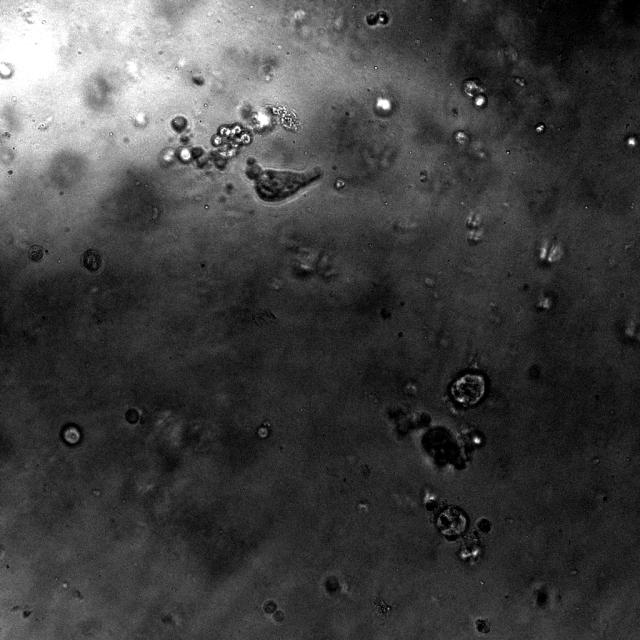organoid: (385, 403, 485, 470), (422, 487, 492, 563), (161, 115, 252, 170), (245, 157, 322, 204), (238, 101, 300, 133), (447, 367, 490, 410), (60, 422, 83, 446), (262, 599, 284, 622), (365, 10, 389, 28), (83, 249, 102, 271), (28, 244, 44, 262), (324, 575, 339, 594), (475, 617, 490, 633), (125, 408, 139, 424), (192, 74, 204, 86)
